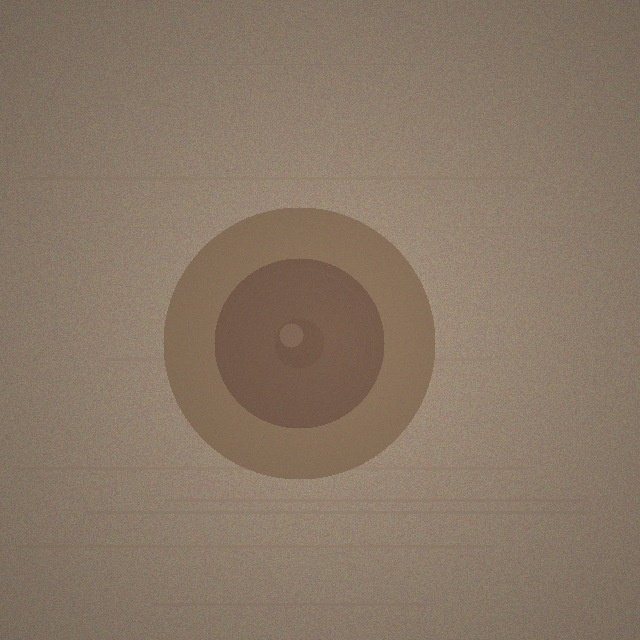good: (163, 207, 435, 479)
